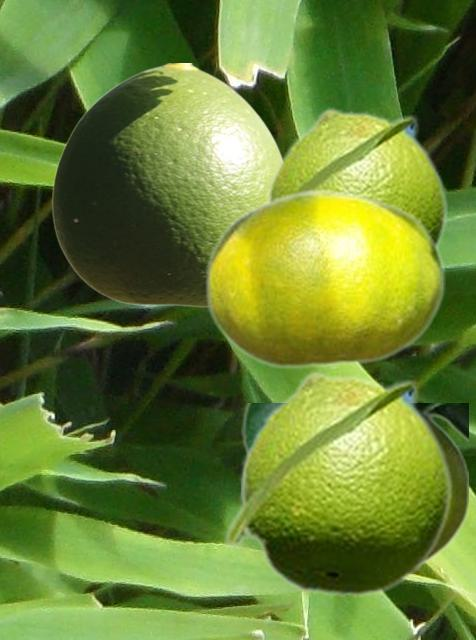dalandan: (51, 63, 281, 306), (222, 370, 453, 598), (204, 188, 444, 369), (241, 403, 467, 570), (263, 107, 448, 249)
